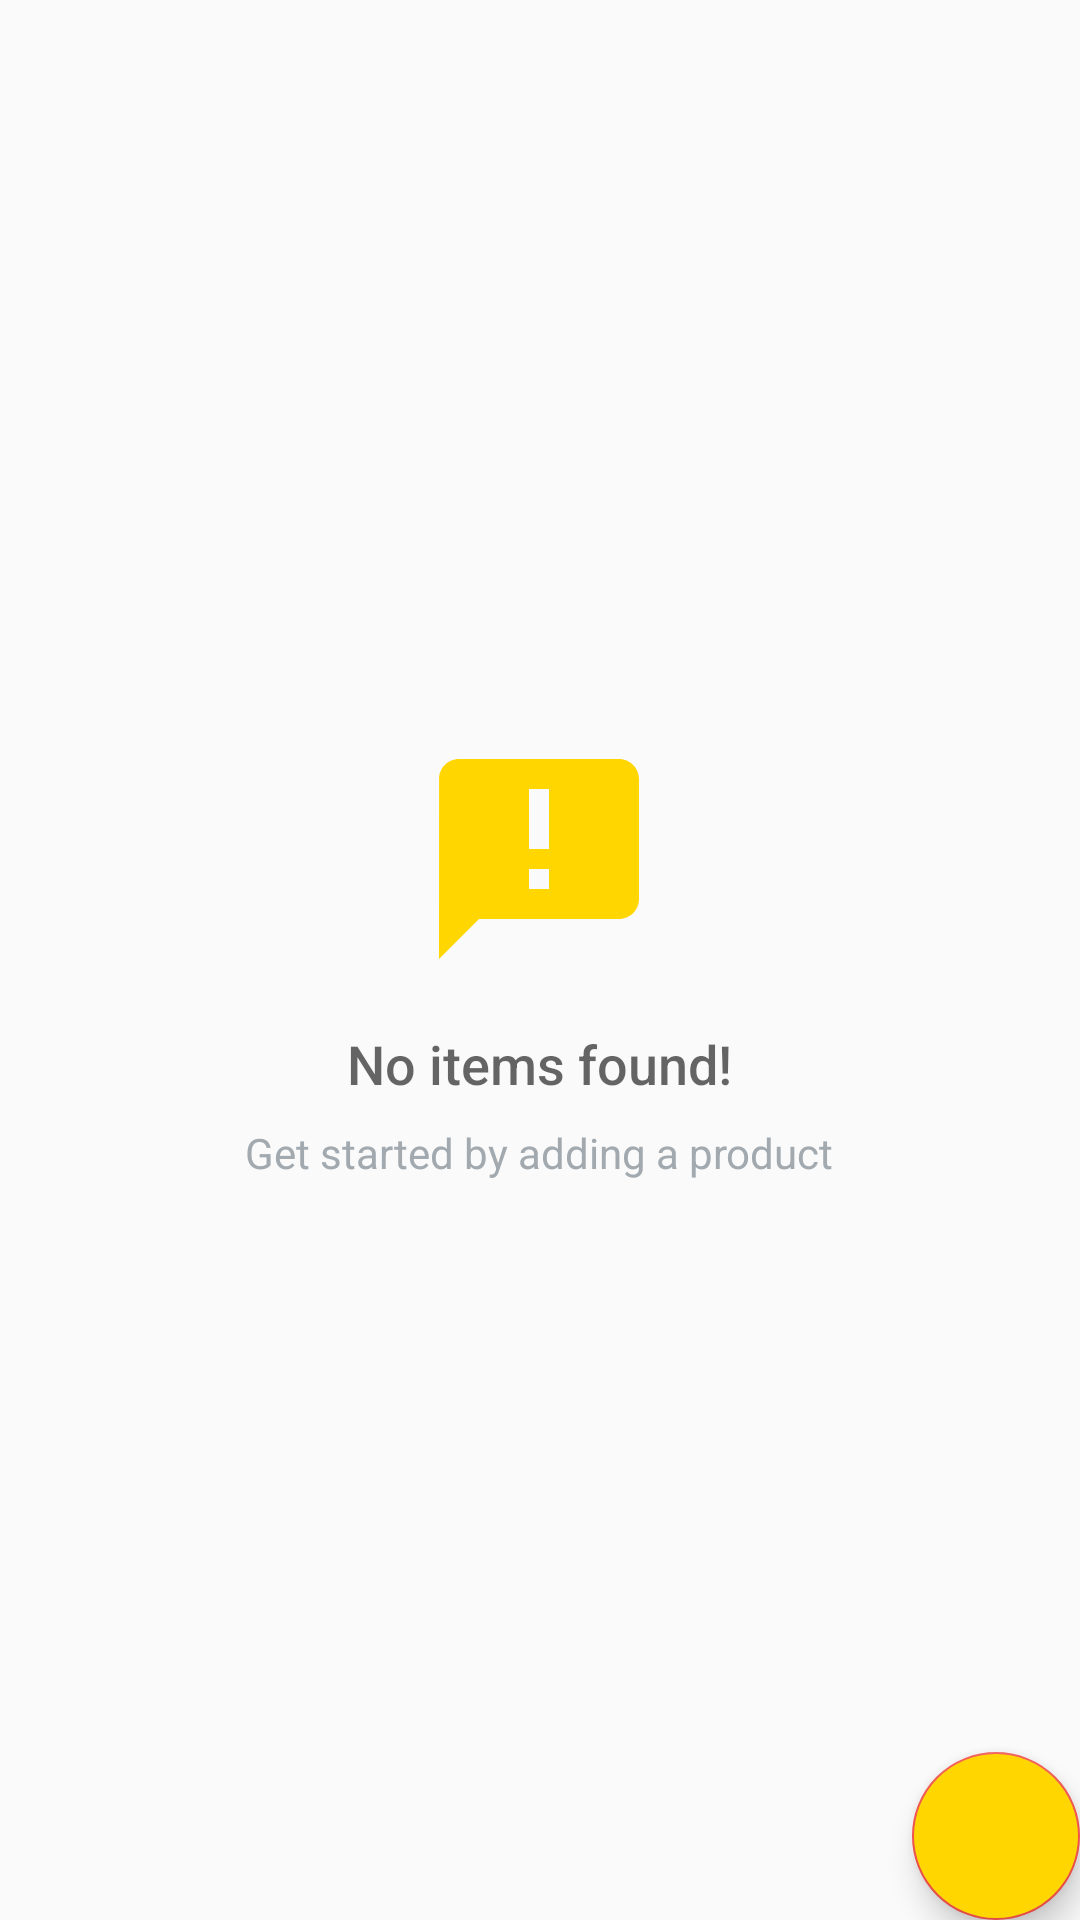

Locate icon controls on the screen. Image size 1080px×1920px, boxes as (x1, y1, x2, y2).
announcement: (439, 759, 639, 959)
